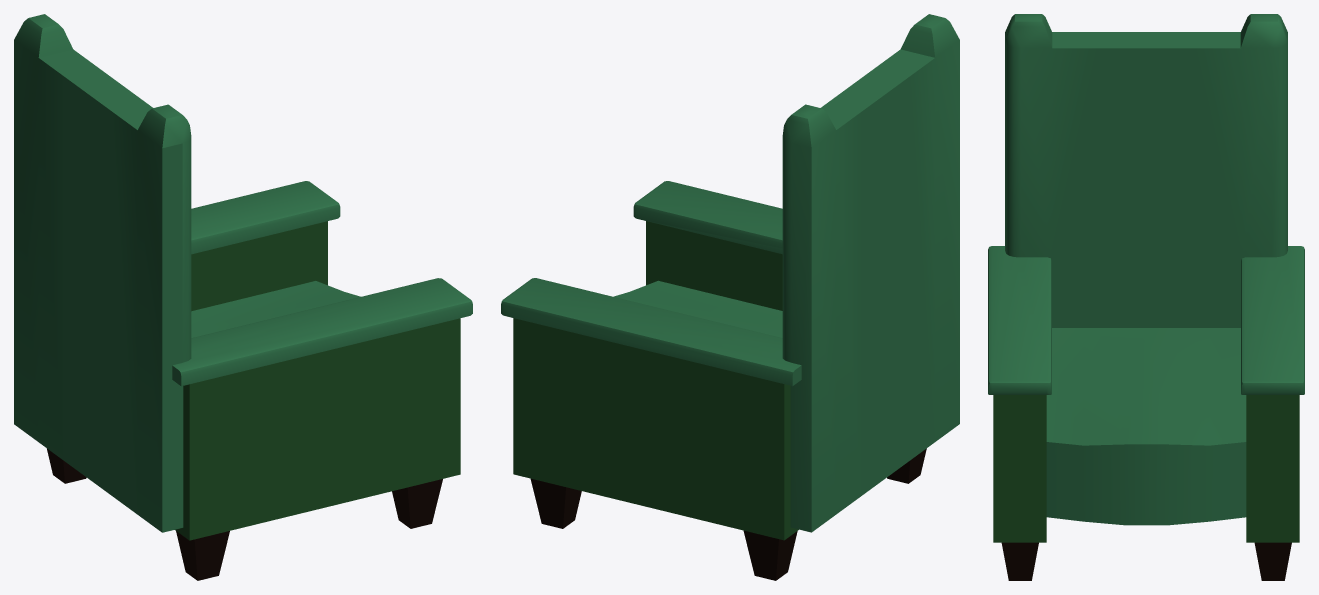
The model's file is SillonPresidencial.fbx.
The picture shows the model from 3 angles, left to right: view 1: azimuth 30°, elevation 25°; view 2: azimuth 150°, elevation 25°; view 3: azimuth 270°, elevation 25°; orthographic projection. The views are drawn at different scales.
Parts seen in each view (by area): view 1: Box024; view 2: Box024; view 3: Box024.
Boxes of the visible parts, bbox=[...] form: Box024: bbox=[14, 14, 472, 580]; Box024: bbox=[501, 14, 959, 580]; Box024: bbox=[988, 14, 1304, 580].
Bounding box in the file's own units: 37.51 × 55.32 × 35.6.
